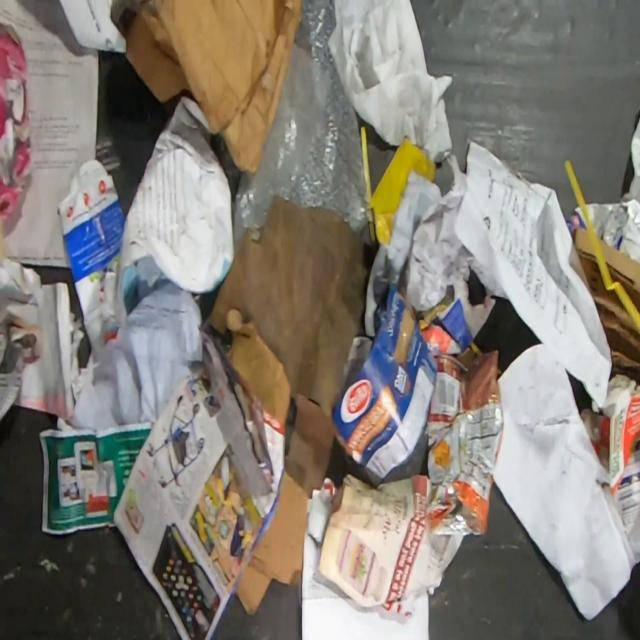cardboard: (330, 280, 438, 487), (235, 469, 309, 615), (574, 224, 640, 386), (226, 307, 292, 426), (0, 20, 35, 223), (580, 387, 640, 496), (599, 237, 640, 315)
soft_plastic: (232, 0, 372, 256), (424, 349, 505, 535)
